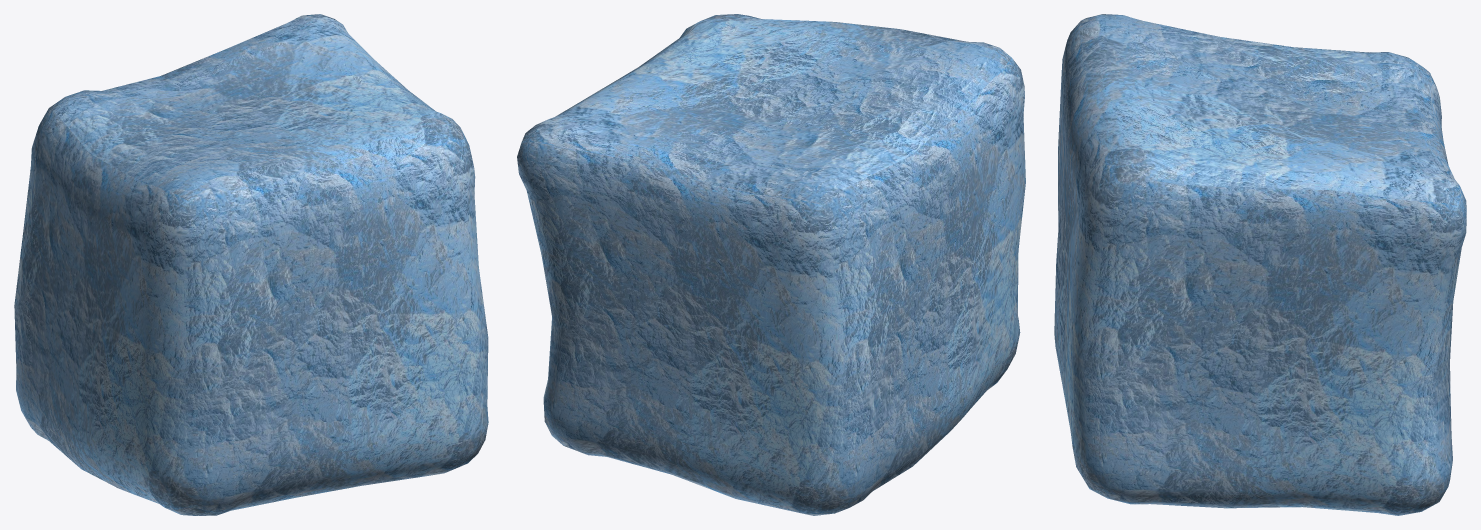
The model's file is ice_02_.FBX.
3 views of the same model, side by side, from view 1: azimuth 30°, elevation 25°; view 2: azimuth 150°, elevation 25°; view 3: azimuth 270°, elevation 25° (orthographic). The views are drawn at different scales.
Parts seen in each view (by area): view 1: ice_02_; view 2: ice_02_; view 3: ice_02_.
Boxes of the visible parts, left/top/right/bottom form: ice_02_: left=14, top=14, right=488, bottom=515; ice_02_: left=517, top=14, right=1025, bottom=515; ice_02_: left=1054, top=14, right=1466, bottom=515.
Bounding box in the file's own units: 27.06 × 27.73 × 27.07.
